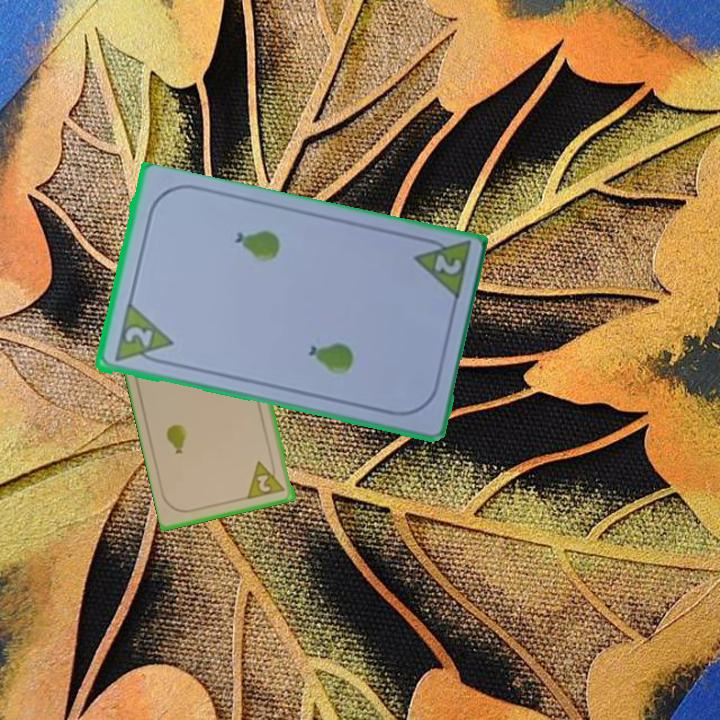2p: (110, 302, 175, 369), (245, 456, 288, 502), (430, 251, 464, 278)
